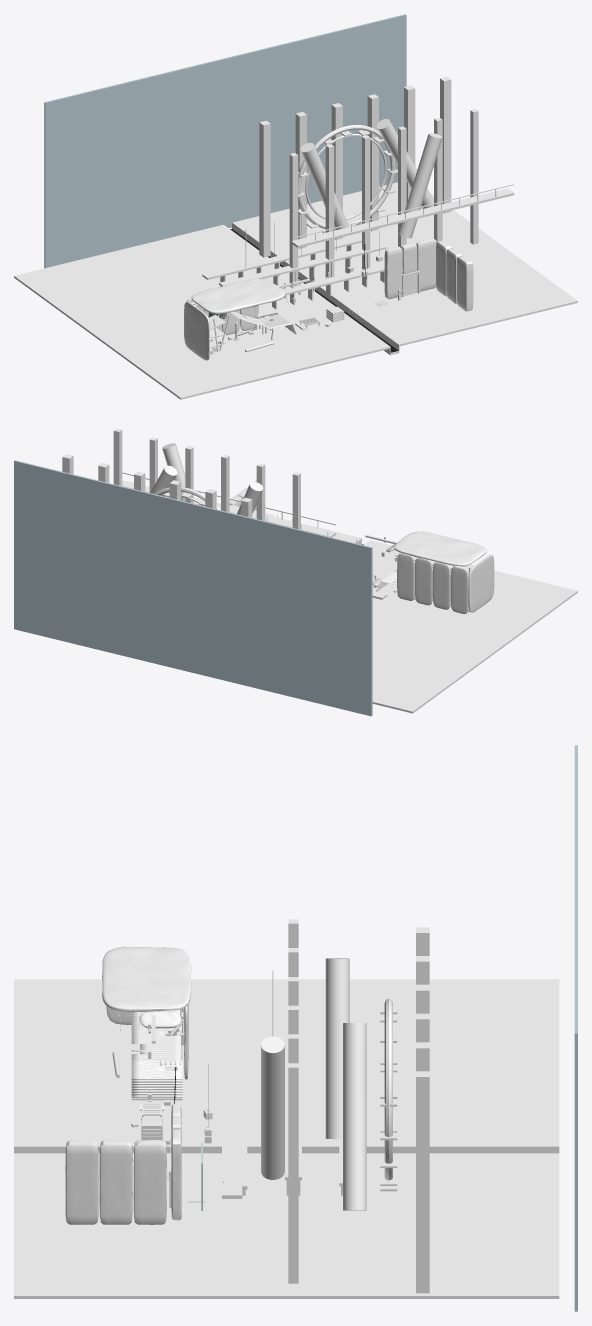
File: set.glb
3 views of the same model, one above another, from view 1: azimuth 30°, elevation 25°; view 2: azimuth 150°, elevation 25°; view 3: azimuth 270°, elevation 25° (orthographic). The views are drawn at different scales.
Visible parts, largest first — view 1: FarWall, Floor, HallMachinery, Bulkhead, Hall, Ceiling, AlcoveWalls, Shutter; view 2: FarWall, Floor, HallMachinery, AlcoveWalls, Ceiling; view 3: Floor, HallMachinery, Bulkhead, Ceiling, Shutter, Hall, FarWall, AlcoveWalls.
Boxes of the visible parts, bbox=[...] form: FarWall: bbox=[44, 14, 406, 268]; Floor: bbox=[14, 182, 577, 399]; HallMachinery: bbox=[259, 76, 514, 286]; Bulkhead: bbox=[384, 238, 473, 311]; Hall: bbox=[202, 207, 386, 313]; Ceiling: bbox=[191, 278, 285, 313]; AlcoveWalls: bbox=[184, 298, 257, 360]; Shutter: bbox=[230, 311, 295, 333]; FarWall: bbox=[14, 460, 372, 716]; Floor: bbox=[193, 497, 577, 713]; HallMachinery: bbox=[62, 428, 336, 537]; AlcoveWalls: bbox=[397, 553, 494, 613]; Ceiling: bbox=[386, 531, 486, 566]; Floor: bbox=[14, 979, 559, 1298]; HallMachinery: bbox=[222, 919, 429, 1293]; Bulkhead: bbox=[65, 1104, 181, 1224]; Ceiling: bbox=[102, 946, 191, 1028]; Shutter: bbox=[131, 1009, 182, 1097]; Hall: bbox=[242, 971, 342, 1195]; FarWall: bbox=[574, 745, 577, 1311]; AlcoveWalls: bbox=[106, 1004, 188, 1079].
Size of the model in its own units: 22 by 9 by 16.55.
24 materials, 2 textured.
